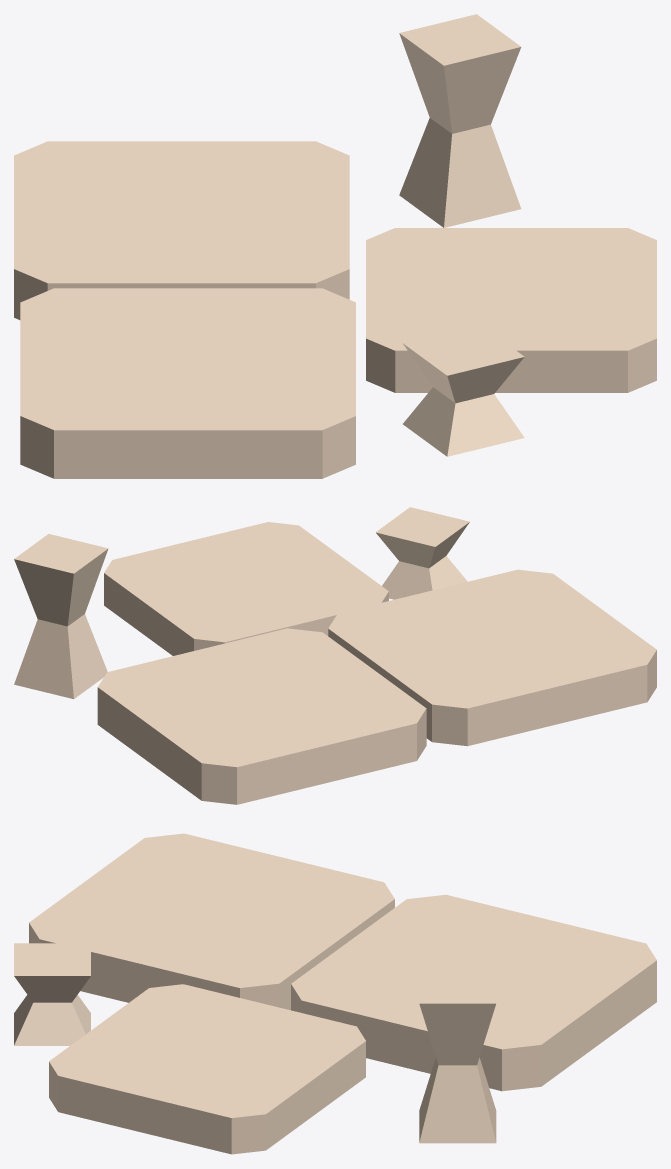
The model's file is Farmlvl3.fbx.
3 renders of one model, top to bottom at view 1: azimuth 30°, elevation 25°; view 2: azimuth 150°, elevation 25°; view 3: azimuth 270°, elevation 25°, orthographic. The views are drawn at different scales.
Visible parts, largest first — view 1: grain.002, grain.001, grain.003, grainBundle.003, grainBundle.002; view 2: grain.001, grain.002, grain.003, grainBundle.003, grainBundle.002; view 3: grain.001, grain.002, grain.003, grainBundle.003, grainBundle.002.
Boxes of the visible parts, <box> form: grain.002: <box>20,288,355,478</box>; grain.001: <box>14,141,349,319</box>; grain.003: <box>366,228,656,392</box>; grainBundle.003: <box>399,14,521,227</box>; grainBundle.002: <box>403,324,524,456</box>; grain.001: <box>97,628,426,804</box>; grain.002: <box>328,569,656,746</box>; grain.003: <box>104,522,388,655</box>; grainBundle.003: <box>14,534,108,699</box>; grainBundle.002: <box>376,507,469,599</box>; grain.001: <box>291,894,656,1091</box>; grain.002: <box>29,833,394,1010</box>; grain.003: <box>49,984,365,1154</box>; grainBundle.003: <box>419,971,496,1143</box>; grainBundle.002: <box>14,943,90,1045</box>.
Size of the model in its own units: 85.68 by 20 by 83.42.
